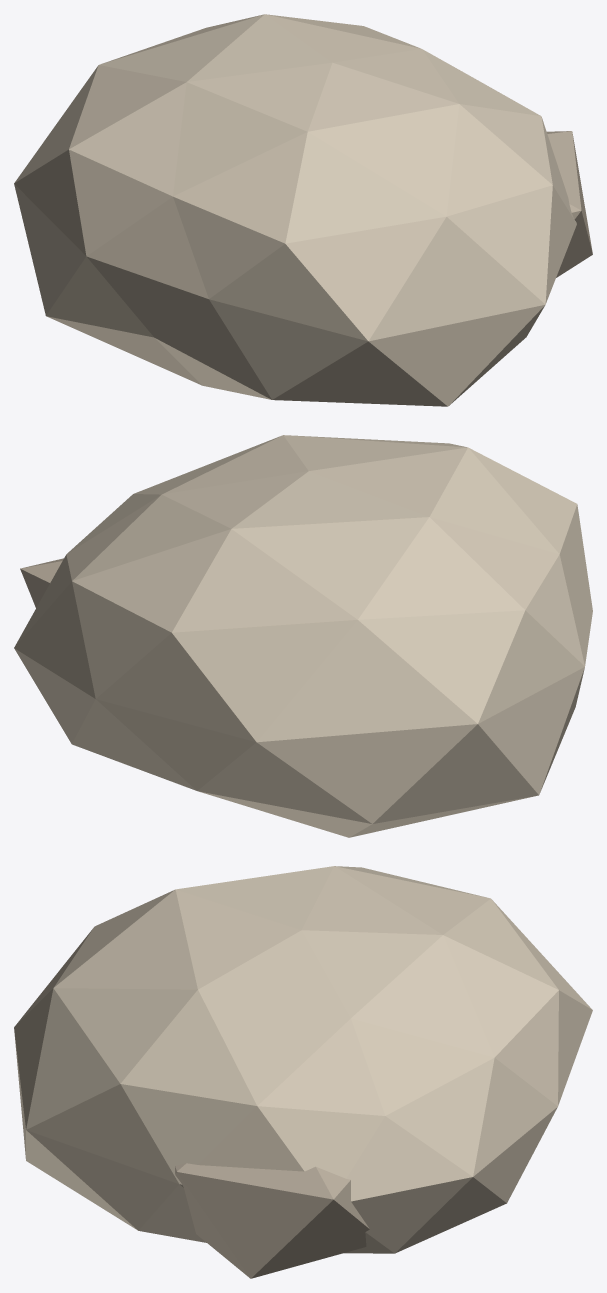
Rendered from campo_rock_granite_9.glb.
3 views of the same model, one above another, from view 1: azimuth 30°, elevation 25°; view 2: azimuth 150°, elevation 25°; view 3: azimuth 270°, elevation 25° (orthographic). The views are drawn at different scales.
Visible parts, largest first — view 1: campo_rock_granite_9.glb; view 2: campo_rock_granite_9.glb; view 3: campo_rock_granite_9.glb.
Boxes of the visible parts, x1,y1,x2,y2 form: campo_rock_granite_9.glb: (14,14,592,406); campo_rock_granite_9.glb: (14,435,592,837); campo_rock_granite_9.glb: (14,866,592,1278).
Bounding box in the file's own units: 2.27 × 1.23 × 2.21.
